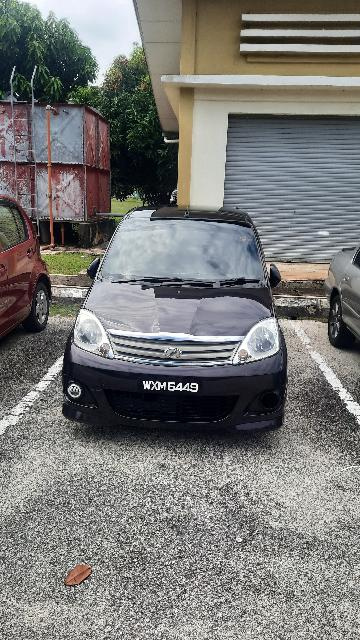License_Plate: (140, 376, 209, 400)
car: (57, 204, 293, 441)
